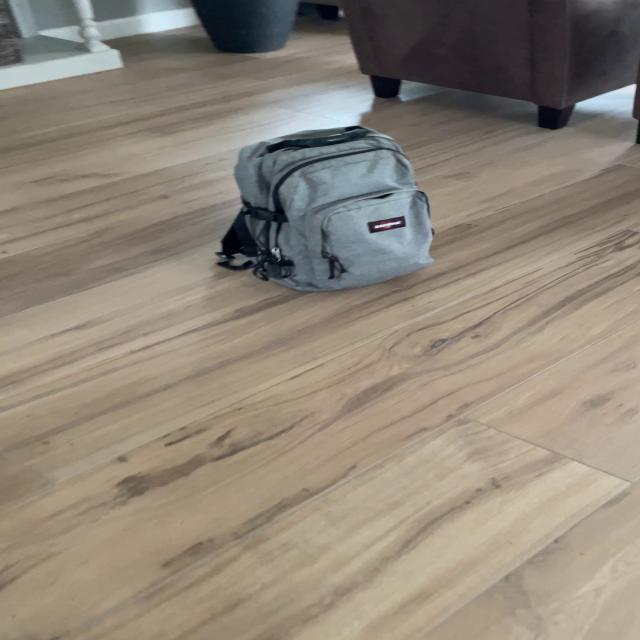backpack: (207, 118, 445, 299)
